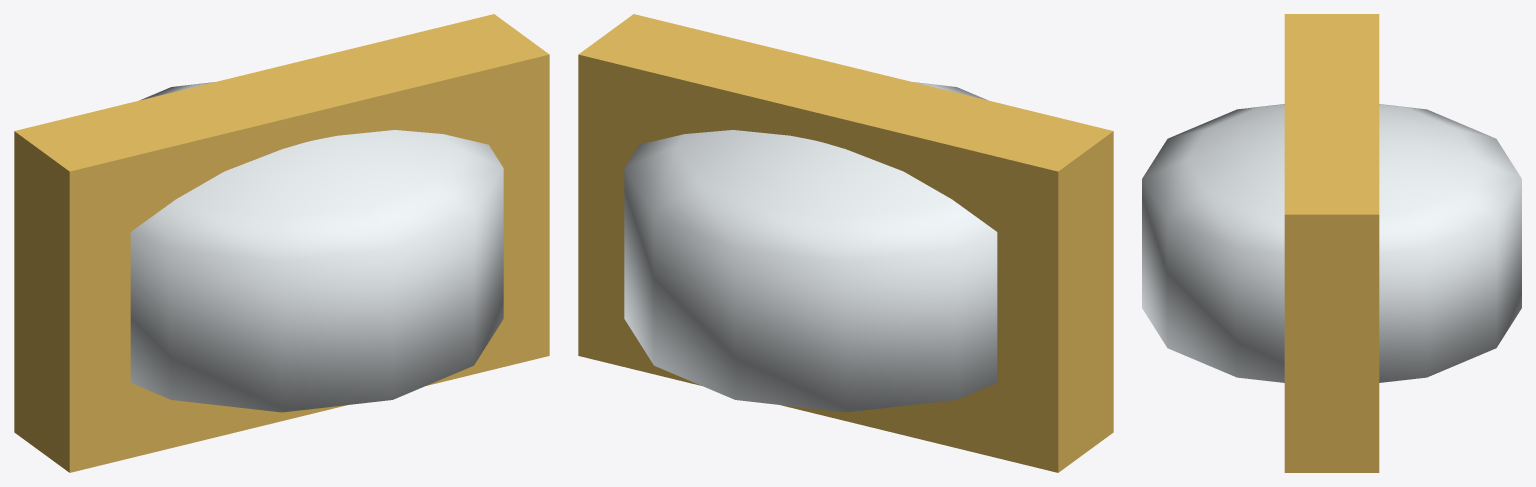
The picture shows the model from 3 angles, left to right: view 1: azimuth 30°, elevation 25°; view 2: azimuth 150°, elevation 25°; view 3: azimuth 270°, elevation 25°; orthographic projection. The views are drawn at different scales.
Visible parts, largest first — view 1: Box001, OilTank001; view 2: Box001, OilTank001; view 3: OilTank001, Box001.
Part boxes in pixels (box(x1,y1,x2,y2)): Box001: box(14, 14, 549, 472); OilTank001: box(130, 82, 503, 412); Box001: box(578, 14, 1113, 472); OilTank001: box(624, 82, 997, 412); OilTank001: box(1142, 104, 1521, 382); Box001: box(1284, 14, 1379, 472).
Size of the model in its own units: 10 by 6 by 8.
